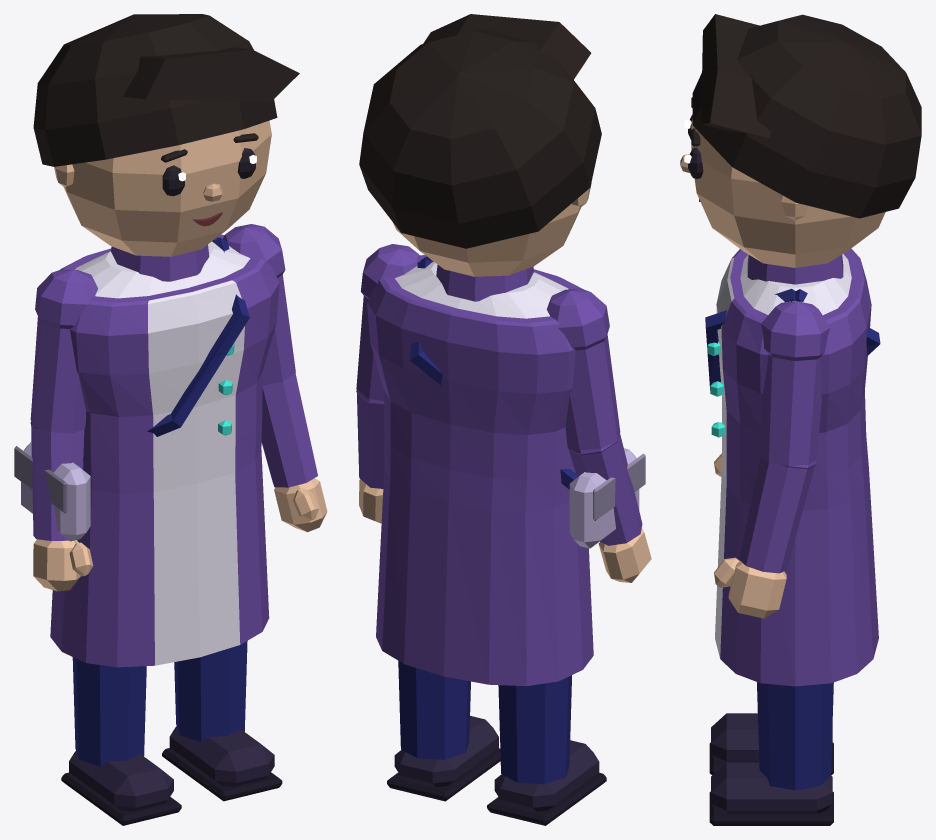
File: pri-k2.glb
The picture shows the model from 3 angles, left to right: view 1: azimuth 30°, elevation 25°; view 2: azimuth 150°, elevation 25°; view 3: azimuth 270°, elevation 25°; orthographic projection.
Visible parts, largest first — view 1: mantel, haare, kopf, arm_r, arm_l, bein_r, accessoire_shoulderbag, bein_l, schuh_l, schuh_r, torso, hand_r (+3 smaller); view 2: mantel, haare, arm_r, bein_r, bein_l, arm_l, kopf, accessoire_shoulderbag, schuh_r, schuh_l, torso, kragen (+2 smaller); view 3: mantel, haare, arm_l, kopf, bein_l, schuh_l, hand_l, torso, schuh_r, kragen, accessoire_shoulderbag, gesicht (+1 smaller).
Boxes of the visible parts, x1,y1,x2,y2 form: mantel: (50,234,279,667); haare: (33,14,299,166); kopf: (54,120,271,256); arm_r: (30,269,97,540); arm_l: (223,224,317,487); bein_r: (72,657,146,766); accessoire_shoulderbag: (14,237,249,541); bein_l: (174,641,247,742); schuh_l: (162,726,282,801); schuh_r: (61,751,181,825); torso: (75,241,250,298); hand_r: (33,539,93,591); mantel: (367,255,593,686); haare: (359,14,601,248); arm_r: (546,288,642,545); bein_r: (498,675,571,784); bein_l: (398,661,470,759); arm_l: (356,244,421,488); kopf: (393,182,591,276); accessoire_shoulderbag: (410,256,645,548); schuh_r: (487,740,606,825); schuh_l: (387,715,500,801); torso: (395,261,568,318); kragen: (436,265,533,301); mantel: (715,248,878,686); haare: (692,14,921,218); arm_l: (739,301,829,573); kopf: (691,118,885,267); bein_l: (757,682,833,790); schuh_l: (709,762,833,825); hand_l: (714,557,786,618); torso: (740,254,851,314); schuh_r: (709,713,833,775); kragen: (747,255,843,284); accessoire_shoulderbag: (705,288,880,390); gesicht: (680,97,703,201).
Size of the model in its own units: 0.011 by 0.0282 by 0.00813.
